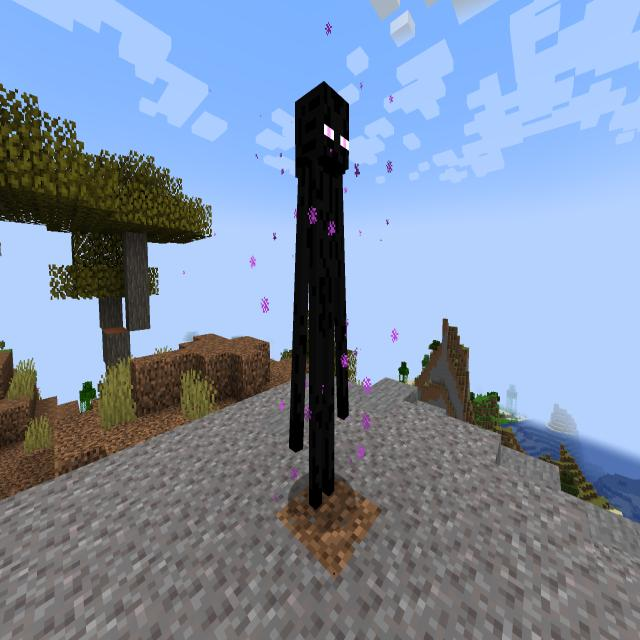Enderman: (281, 70, 363, 526)
